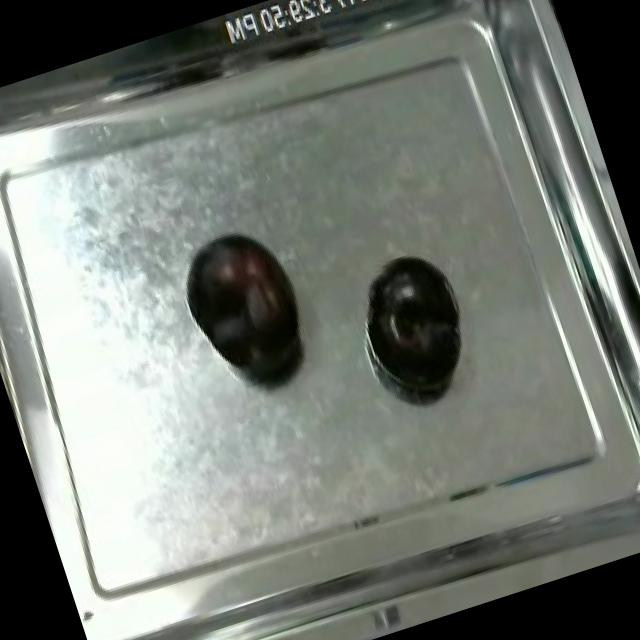Fruit: (170, 213, 323, 402), (354, 247, 484, 405)
